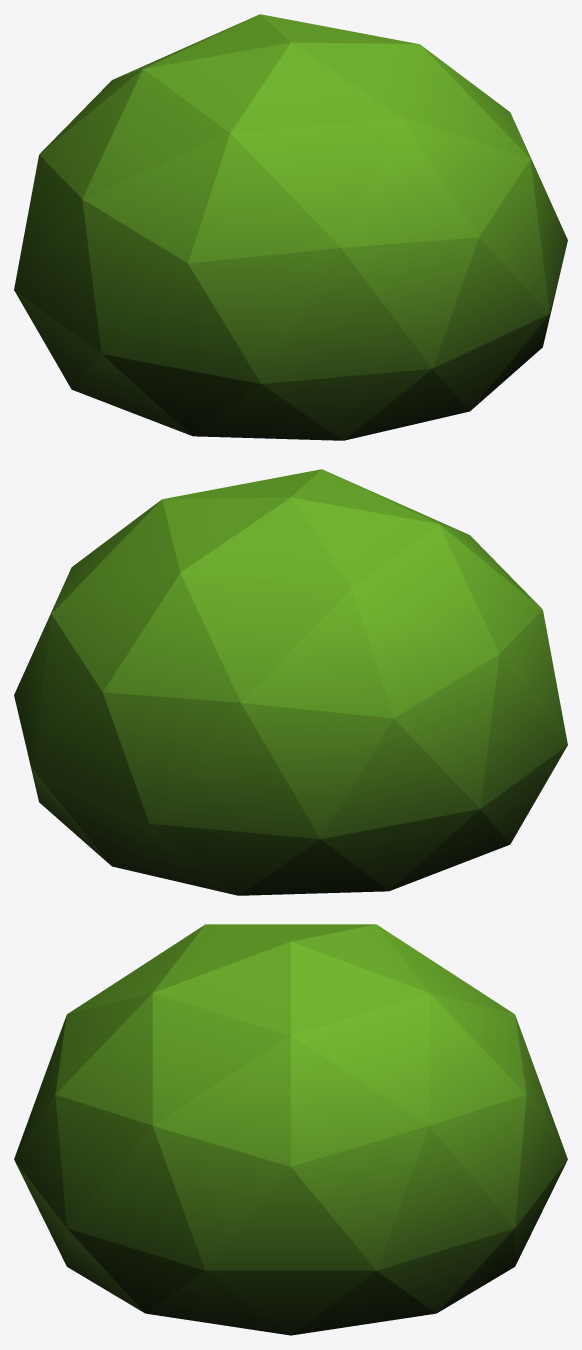
File: Normal_Bush.fbx
3 views of the same model, one above another, from view 1: azimuth 30°, elevation 25°; view 2: azimuth 150°, elevation 25°; view 3: azimuth 270°, elevation 25° (orthographic). The views are drawn at different scales.
Parts seen in each view (by area): view 1: Normal_Bush; view 2: Normal_Bush; view 3: Normal_Bush.
Part boxes in pixels (x1,y1,x2,y2): Normal_Bush: (14, 14, 567, 440); Normal_Bush: (14, 469, 567, 895); Normal_Bush: (14, 924, 567, 1335).
Bounding box in the file's own units: 280 × 173 × 294.
